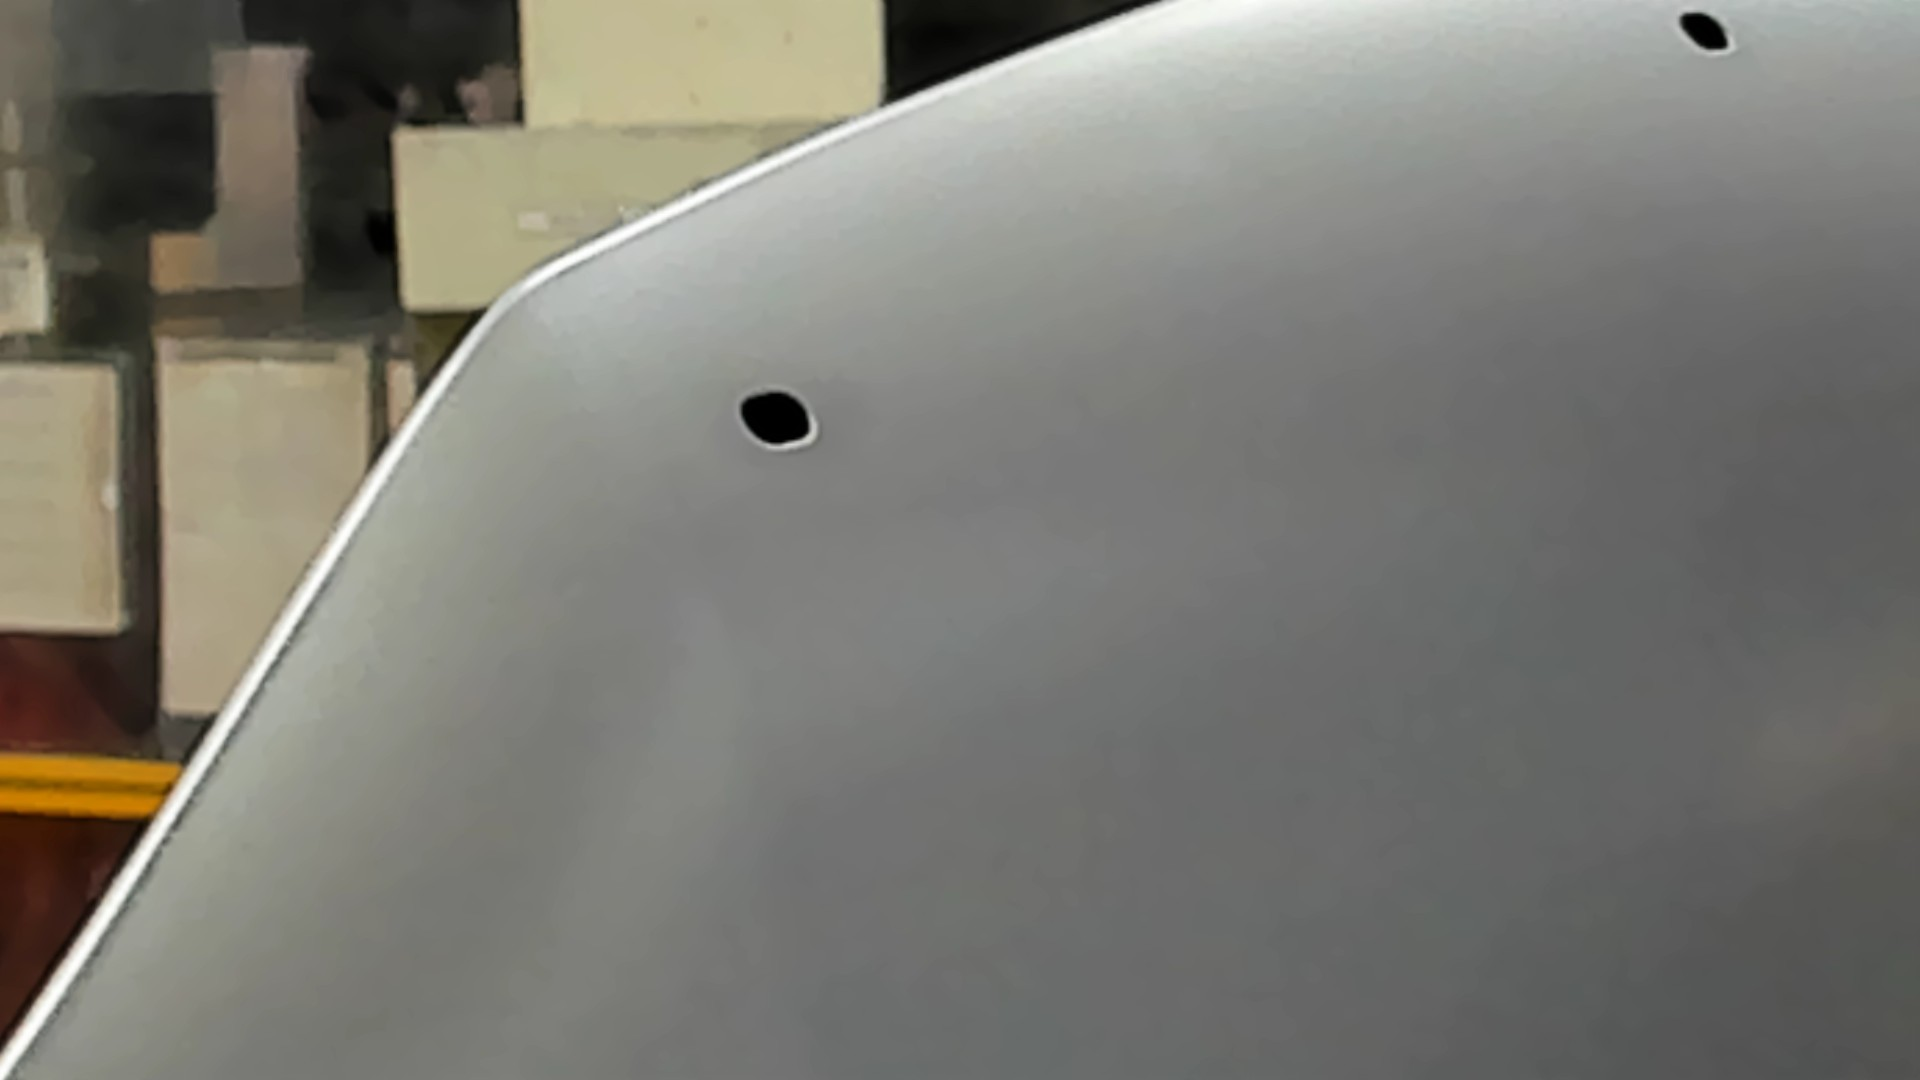amorfo: (731, 378, 823, 458), (1660, 1, 1747, 76)
capo: (905, 129, 1920, 1080)
